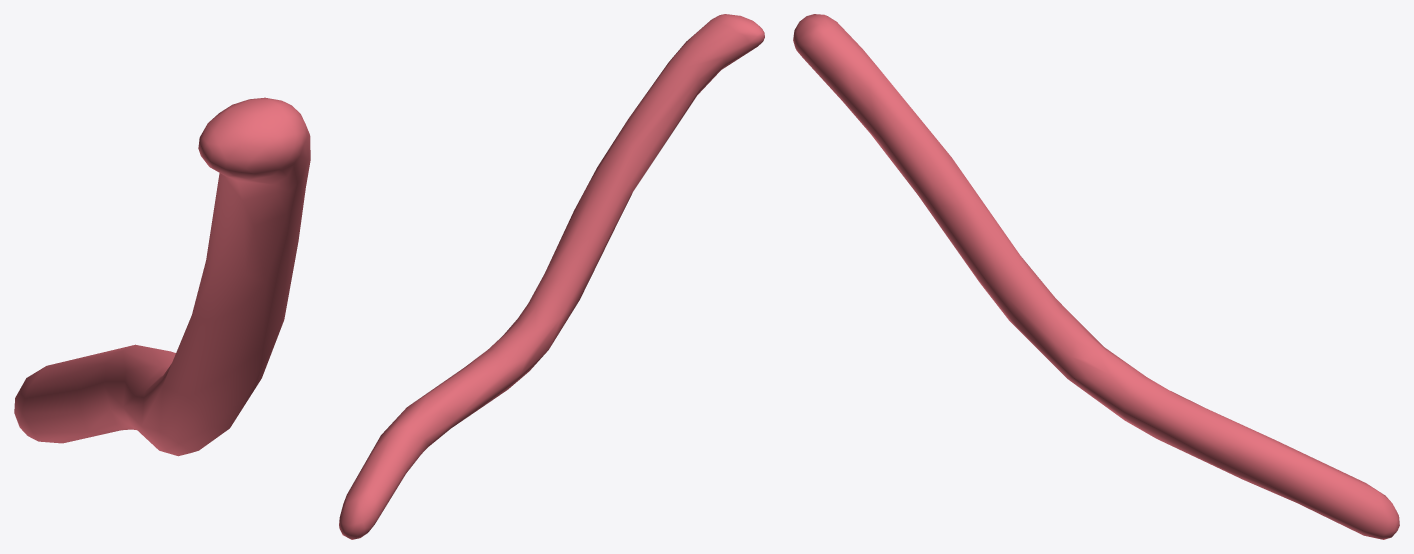
File: fma69515_fj2068.glb
3 views of the same model, side by side, from view 1: azimuth 30°, elevation 25°; view 2: azimuth 150°, elevation 25°; view 3: azimuth 270°, elevation 25° (orthographic). The views are drawn at different scales.
Parts seen in each view (by area): view 1: FMA69515_FJ2068; view 2: FMA69515_FJ2068; view 3: FMA69515_FJ2068.
Part boxes in pixels (x1,y1,x2,y2): FMA69515_FJ2068: (14, 97, 310, 456); FMA69515_FJ2068: (339, 14, 764, 539); FMA69515_FJ2068: (793, 14, 1399, 539).
Bounding box in the file's own units: 0.00855 × 0.0168 × 0.021.
